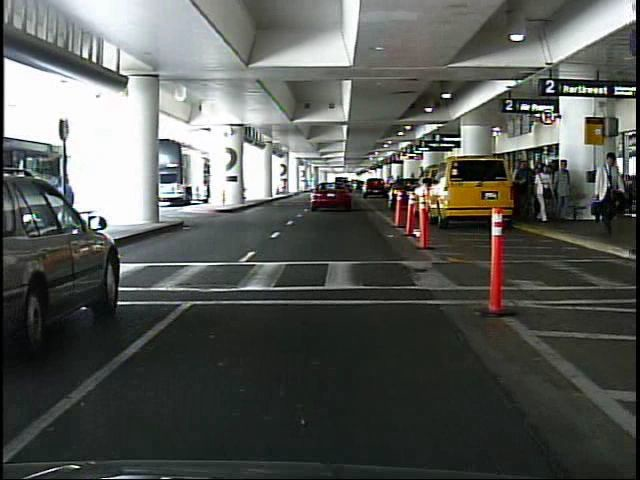person: (590, 152, 628, 234), (551, 159, 574, 223), (536, 160, 555, 225)
